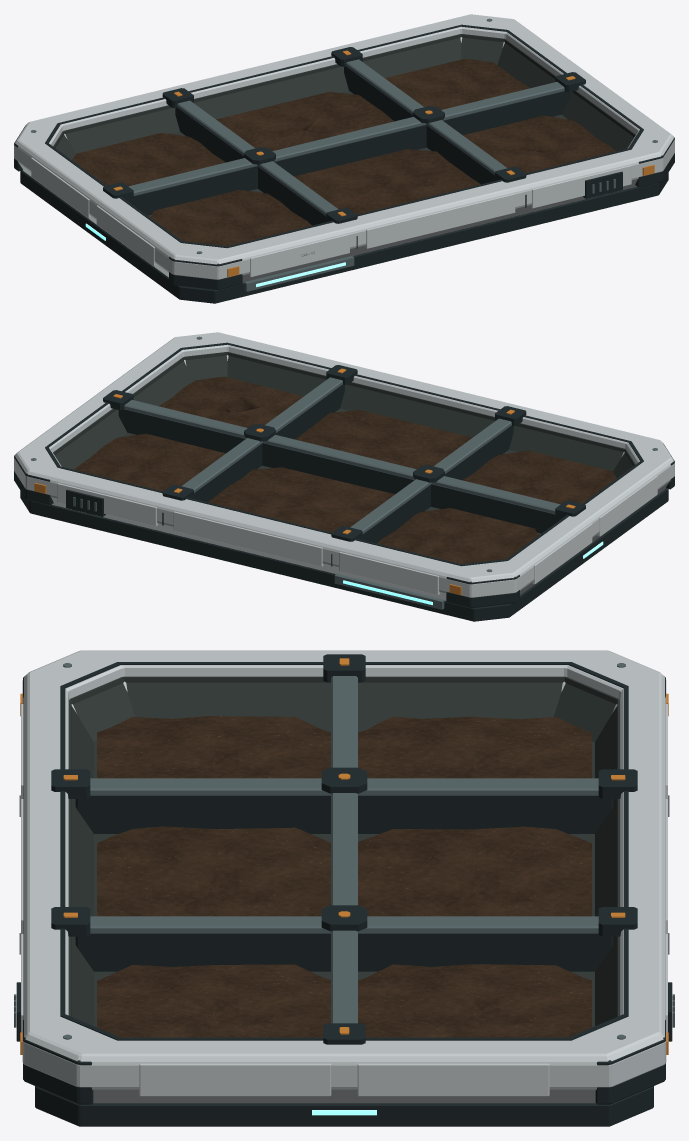
File: Saksı 2x3.fbx
The picture shows the model from 3 angles, top to bottom: view 1: azimuth 30°, elevation 25°; view 2: azimuth 150°, elevation 25°; view 3: azimuth 270°, elevation 25°; orthographic projection. The views are drawn at different scales.
Visible parts, largest first — view 1: CAN_2x3_DIVIDED_GAME; view 2: CAN_2x3_DIVIDED_GAME; view 3: CAN_2x3_DIVIDED_GAME.
Part boxes in pixels (box(x1,y1,x2,y2)): CAN_2x3_DIVIDED_GAME: box(14, 14, 674, 303); CAN_2x3_DIVIDED_GAME: box(14, 332, 674, 621); CAN_2x3_DIVIDED_GAME: box(14, 650, 674, 1126).
Bounding box in the file's own units: 5.97 × 0.56 × 4.06.
